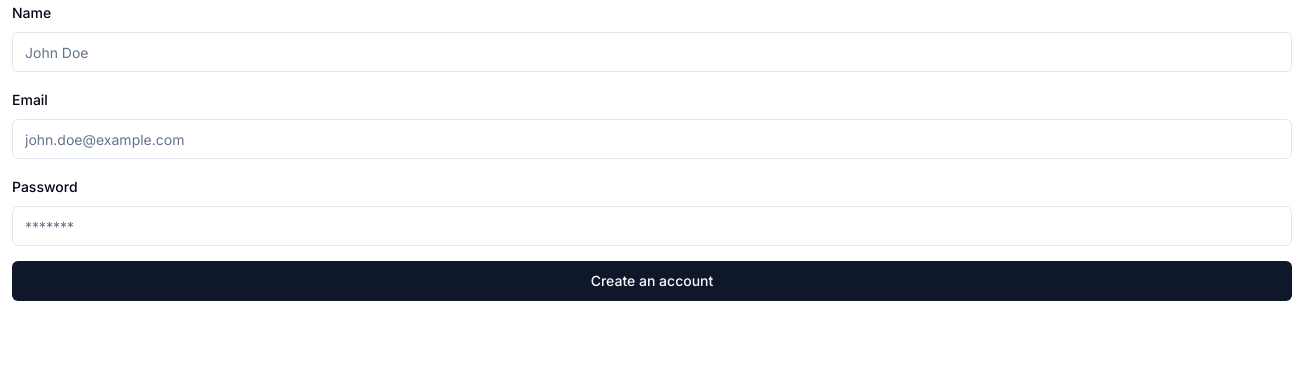
it: Register form component › should show a error message when the request fails
In the field labelled "Name": (652, 52) 12,32 -> 1292,72, type "test"
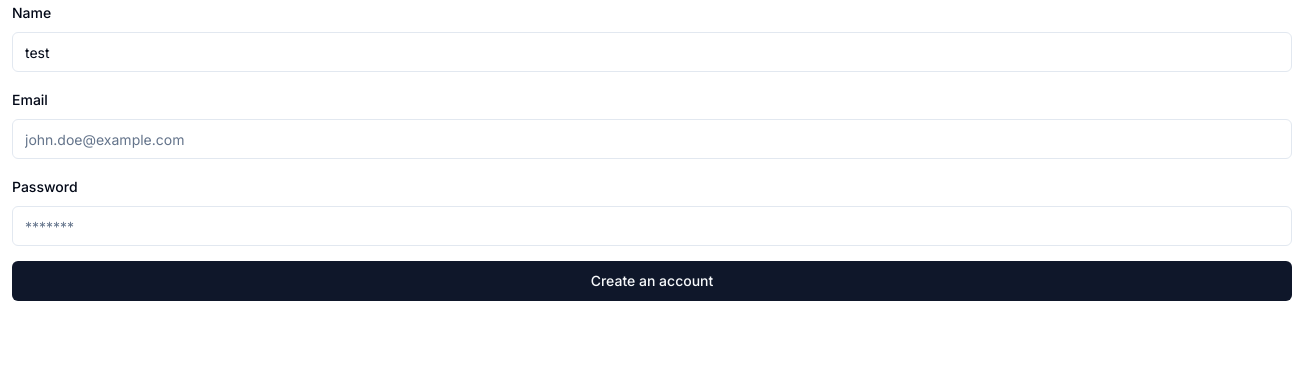
In the field labelled "Email": (652, 139) 12,119 -> 1292,159, type "test@test.com"
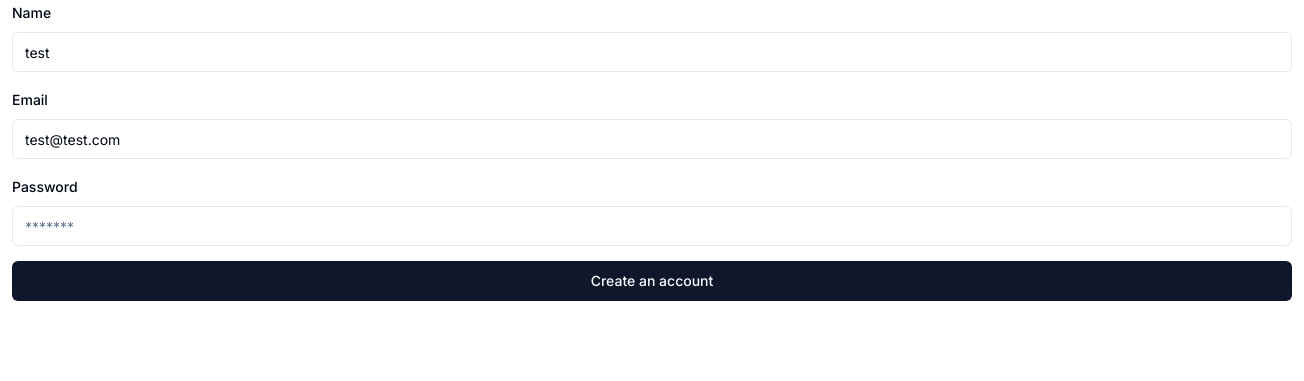
In the password field labelled "Password": (652, 226) 12,206 -> 1292,246, type "Testpassword1$"
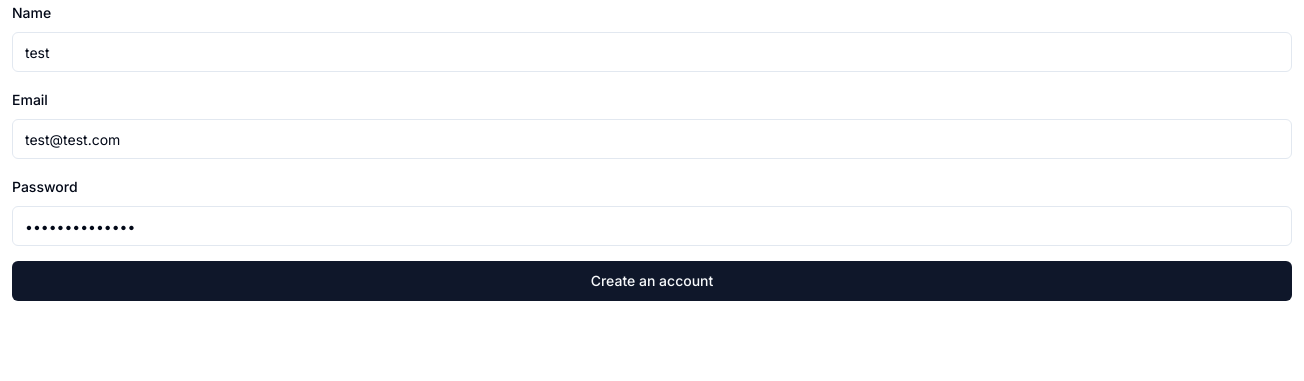
Click the button with aria-label "register": (652, 281) 12,261 -> 1292,301
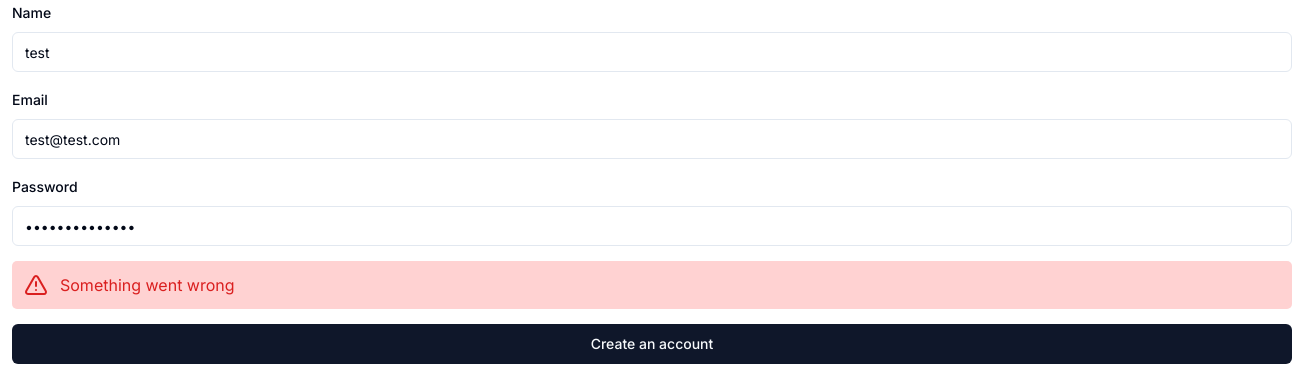
Expected: the text "Something went wrong" is shown, 12,261 -> 1292,309
